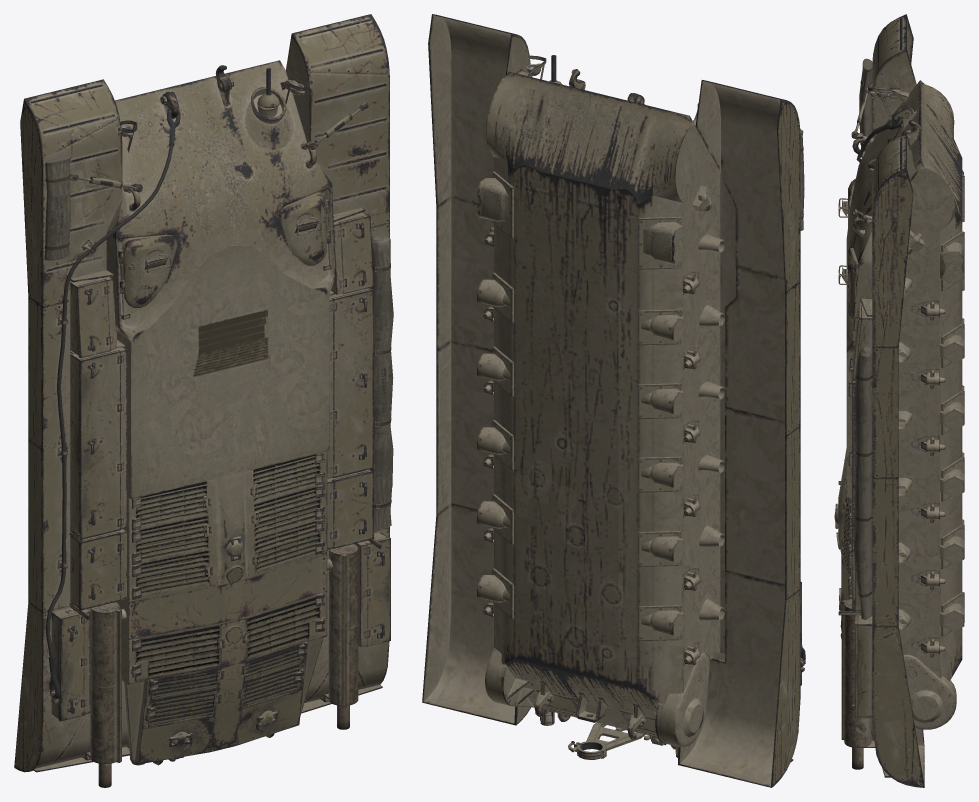
The model's file is Hull.glb.
3 views of the same model, side by side, from view 1: azimuth 30°, elevation 25°; view 2: azimuth 150°, elevation 25°; view 3: azimuth 270°, elevation 25° (orthographic). The views are drawn at different scales.
Visible parts, largest first — view 1: set_0_group_0; view 2: set_0_group_0; view 3: set_0_group_0.
Boxes of the visible parts, bbox=[...] form: set_0_group_0: bbox=[14, 14, 393, 787]; set_0_group_0: bbox=[422, 14, 805, 787]; set_0_group_0: bbox=[834, 14, 964, 787].
Size of the model in its own units: 3.76 by 7.07 by 1.33.
1 material, 1 textured.
